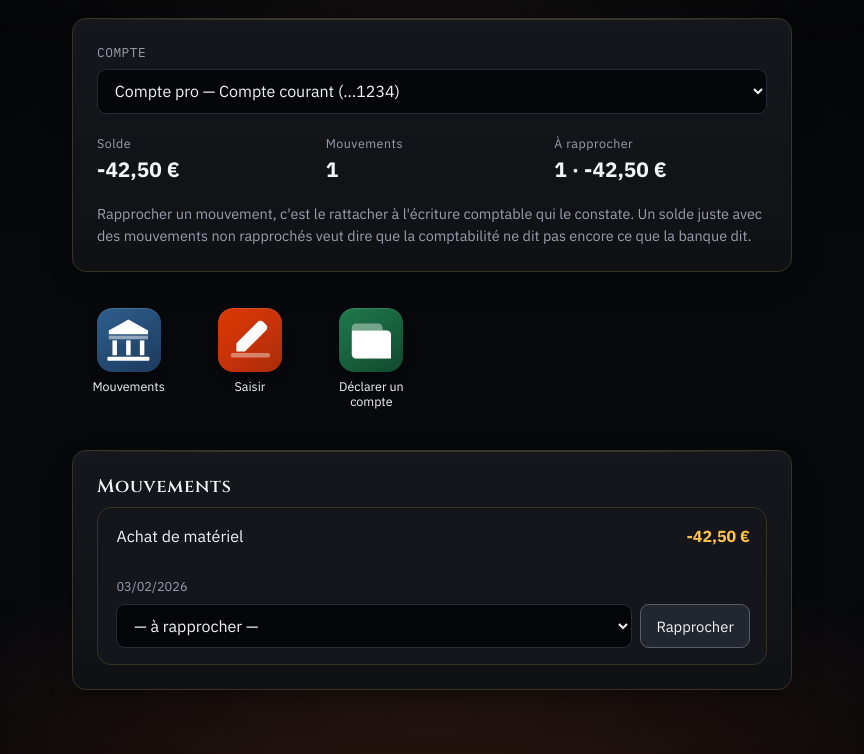
Scenario: BanquePage › refuse de rapprocher sans écriture choisie
(page scrolled)
Click the button "Rapprocher" at (695, 626), box [640,604,750,648]
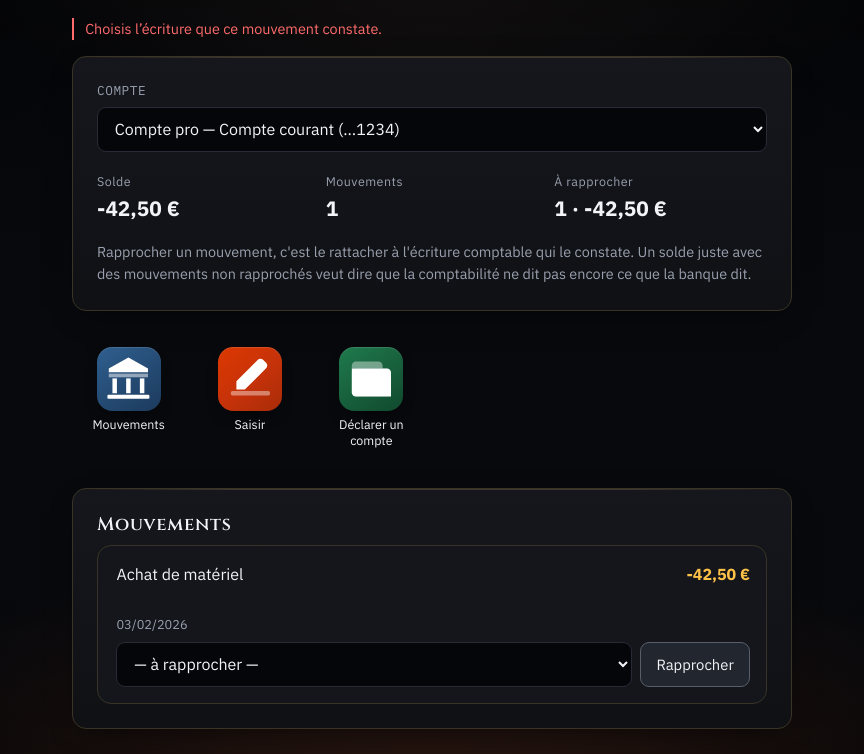
Check: the text "Choisis l’écriture que ce mouvement constate." is shown, box [72,18,792,40]
